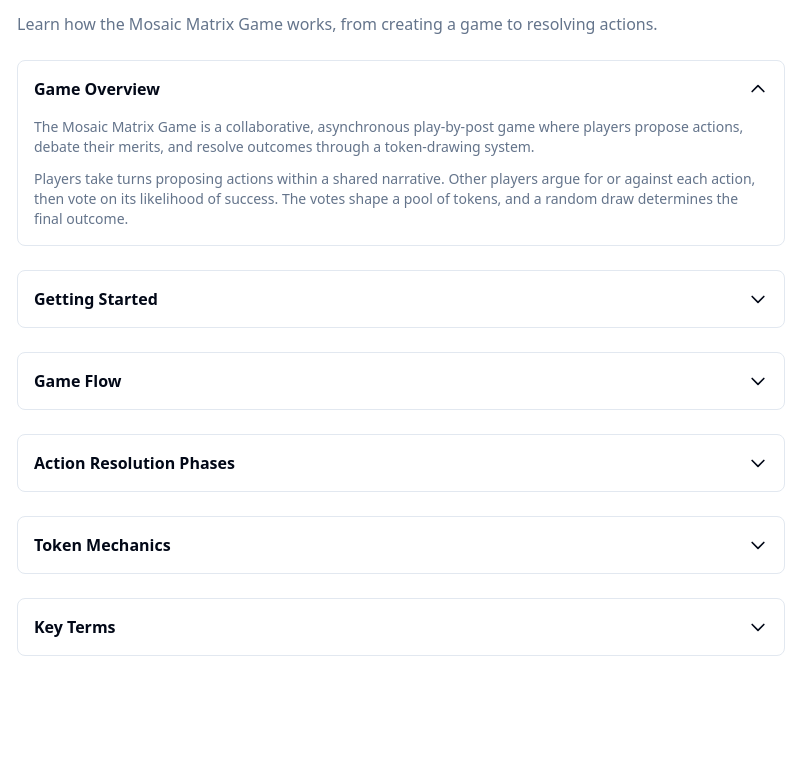
Help Page › should display token results when Token Mechanics section is opened
Click the button "Token Mechanics" at (102, 545), box [18,517,784,573]
(page scrolled)
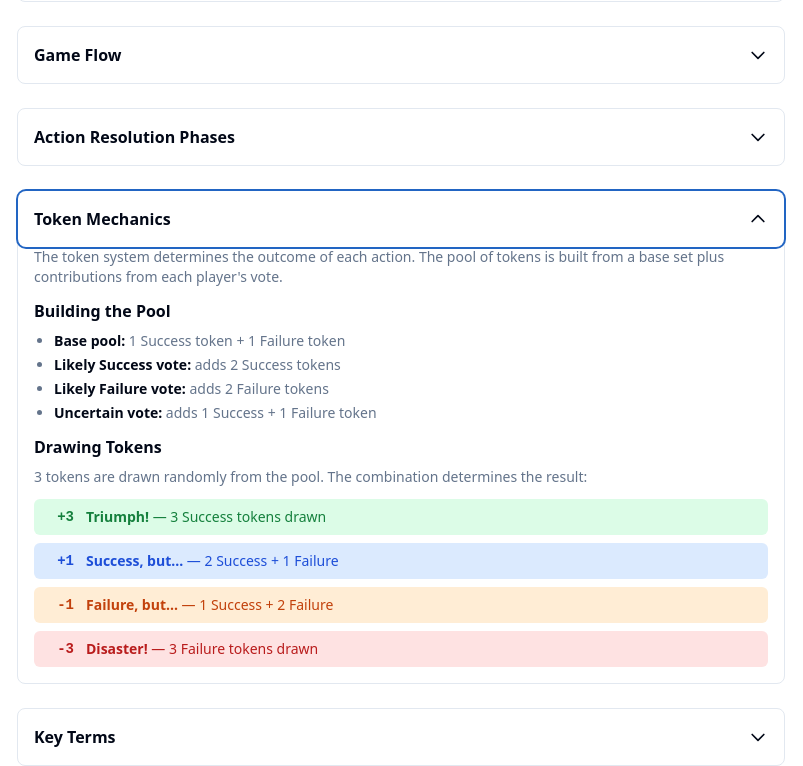
Now the text "Triumph!" is shown, box [86,507,149,526]
Now the text "Disaster!" is shown, box [86,639,148,658]
